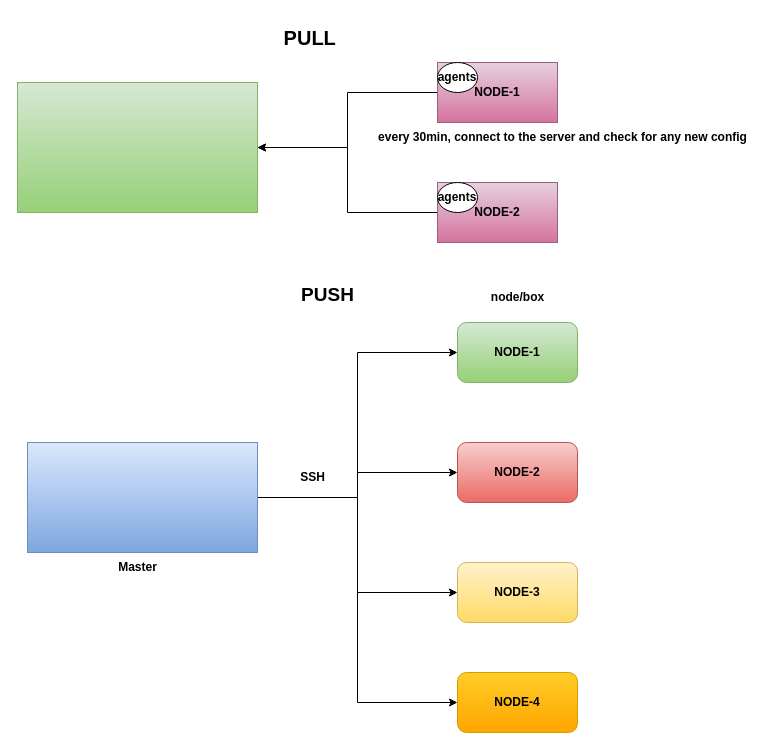
The diagram is 775 pixels wide and 750 high, and some of its shapes have lost their labels. The shapes that lost their labels are listed below. From the top down, each one's box as (x1, y1, x2, y2) in pixels, then its label:
(16, 82, 258, 212): CM Server
(26, 442, 258, 552): Ansible Server
